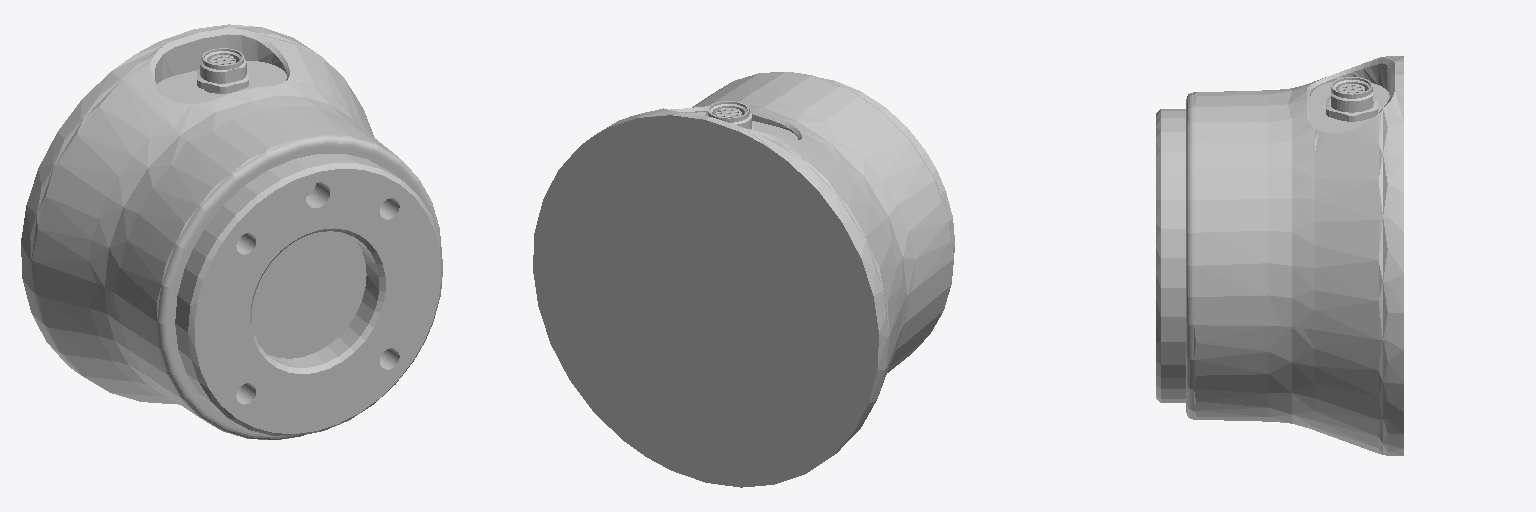
File: Tool_A0509.obj
3 renders of one model, left to right at view 1: azimuth 30°, elevation 25°; view 2: azimuth 150°, elevation 25°; view 3: azimuth 270°, elevation 25°, orthographic.
Visible parts, largest first — view 1: 3DGeom-1; view 2: 3DGeom-1; view 3: 3DGeom-1.
Part boxes in pixels (left/top/right/bottom): 3DGeom-1: left=21, top=24, right=442, bottom=439; 3DGeom-1: left=533, top=72, right=954, bottom=487; 3DGeom-1: left=1156, top=56, right=1403, bottom=455.
Bounding box in the file's own units: 0.0854 × 0.0855 × 0.053.